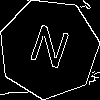N: (23, 23, 73, 79)
